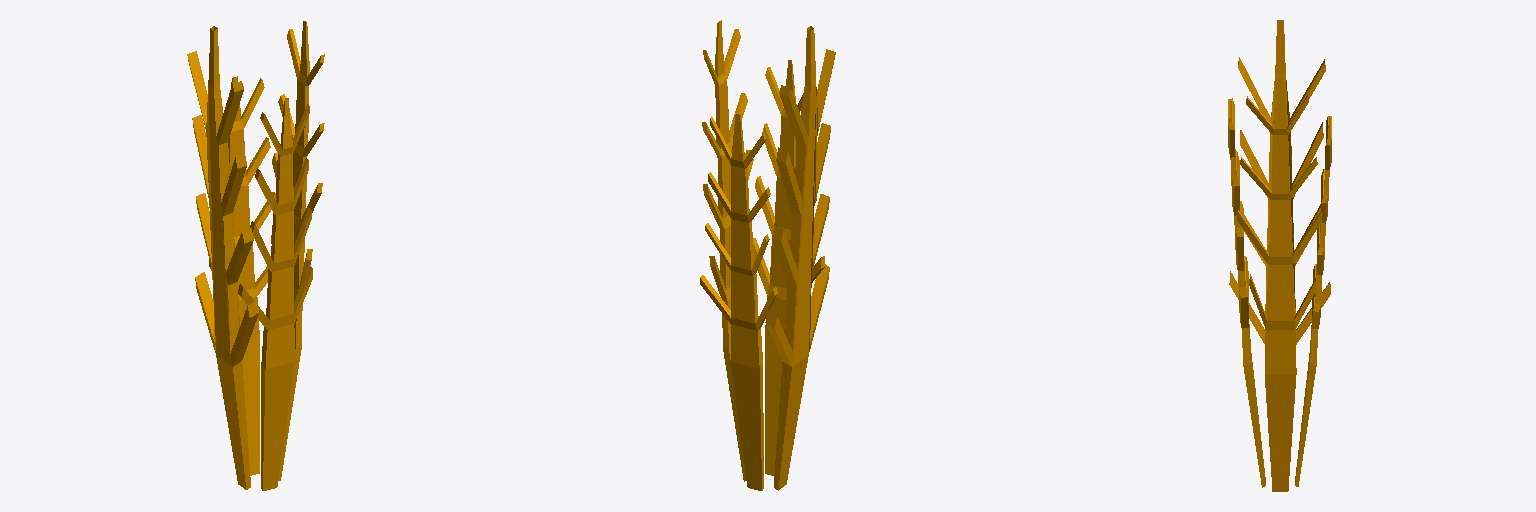
robot.urdf — rosemary_sprigs:
<?xml version="1.0"?>
<robot name="rosemary_sprigs">
  <link name="body">
    <inertial>
        <origin rpy="0 0 0" xyz="0 0 0"/>
        <mass value="0.01"/>
        <inertia ixx="4.4e-5" ixy="0" ixz="0" iyy="0" iyz="0" izz="4.4e-5"/>
    </inertial>
    <visual>
      <geometry>
        <mesh filename="RosemarySprigs.obj"/>
      </geometry>
    </visual>
    <collision>
      <geometry>
        <mesh filename="RosemaryCollider.obj"/>
      </geometry>
      <surface>
           <bounce restitution_coefficient = "0.1"/>
      </surface>
    </collision>
  </link>
</robot>

--- What the picture shows (computed from the rendered views, not written in the file) ---
The picture shows the robot from 3 angles, left to right: view 1: azimuth 30°, elevation 25°; view 2: azimuth 150°, elevation 25°; view 3: azimuth 270°, elevation 25°; orthographic projection.
Model rosemary_sprigs with 1 links and 0 joints (none), rooted at body, posed all joints at 0.
Visible links, largest first — view 1: body; view 2: body; view 3: body.
Boxes of the visible links, x1,y1,x2,y2 form: body: [187, 21, 324, 490]; body: [700, 20, 835, 490]; body: [1228, 20, 1331, 491].
Size in the robot's own frame: 0.0327 by 0.032 by 0.1502 metres.
1 mesh visuals loaded from 1 distinct referenced files (1 OBJ).
